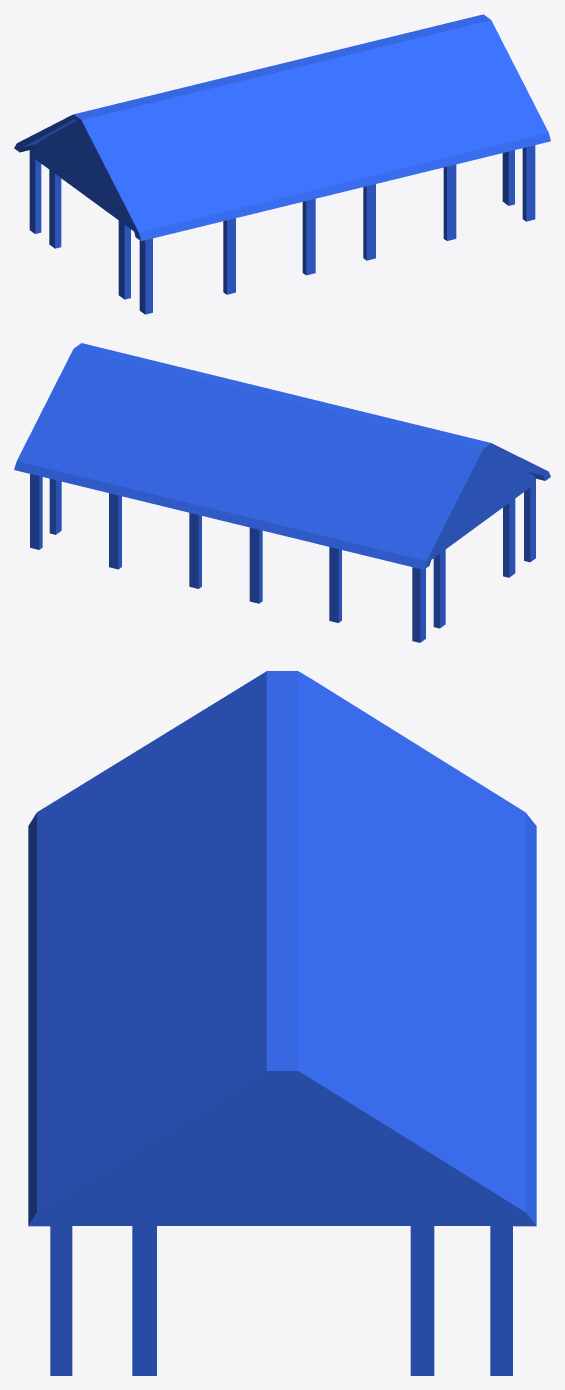
File: Ordeñar Vaca.FBX
3 views of the same model, one above another, from view 1: azimuth 30°, elevation 25°; view 2: azimuth 150°, elevation 25°; view 3: azimuth 270°, elevation 25° (orthographic). The views are drawn at different scales.
Parts seen in each view (by area): view 1: Ordeñar Vaca; view 2: Ordeñar Vaca; view 3: Ordeñar Vaca.
Boxes of the visible parts, x1,y1,x2,y2 form: Ordeñar Vaca: [14, 14, 550, 314]; Ordeñar Vaca: [14, 343, 550, 642]; Ordeñar Vaca: [28, 671, 536, 1375].
Size of the model in its own units: 409 by 150 by 220.
